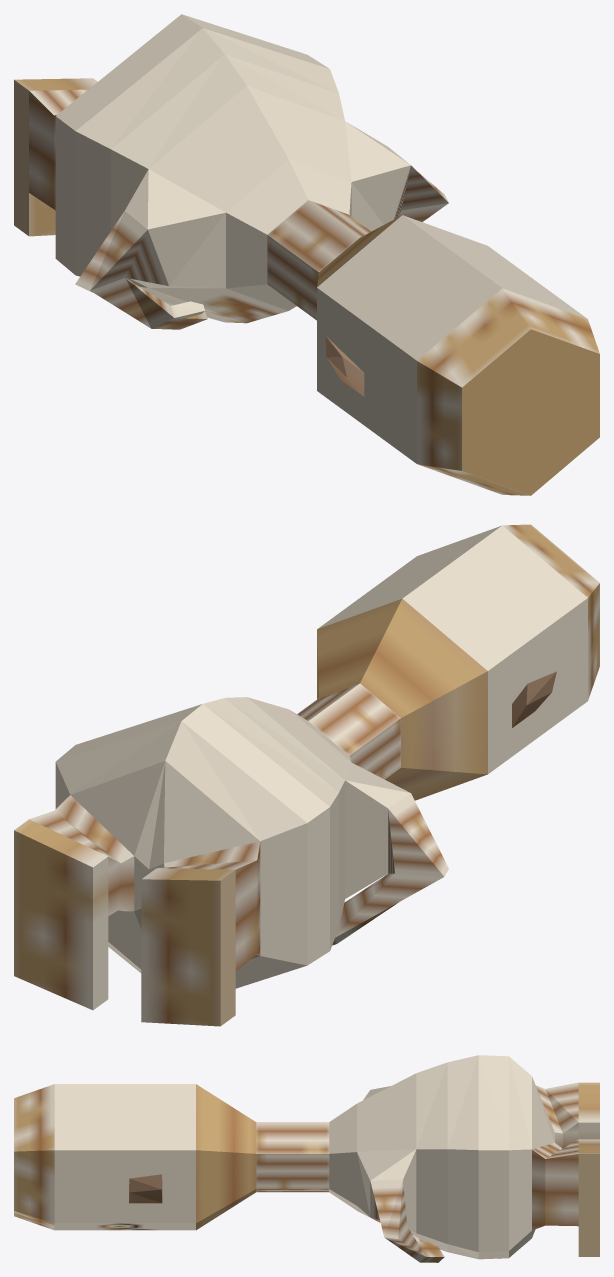
Rendered from ancientIdol.obj.
3 views of the same model, one above another, from view 1: azimuth 30°, elevation 25°; view 2: azimuth 150°, elevation 25°; view 3: azimuth 270°, elevation 25° (orthographic). The views are drawn at different scales.
Parts seen in each view (by area): view 1: Cylinder; view 2: Cylinder; view 3: Cylinder.
Part boxes in pixels (bbox=[...]): Cylinder: bbox=[14, 14, 599, 495]; Cylinder: bbox=[14, 524, 599, 1026]; Cylinder: bbox=[14, 1055, 599, 1262].
Size of the model in its own units: 8.85 by 6.6 by 17.17.
1 material, 1 textured.
